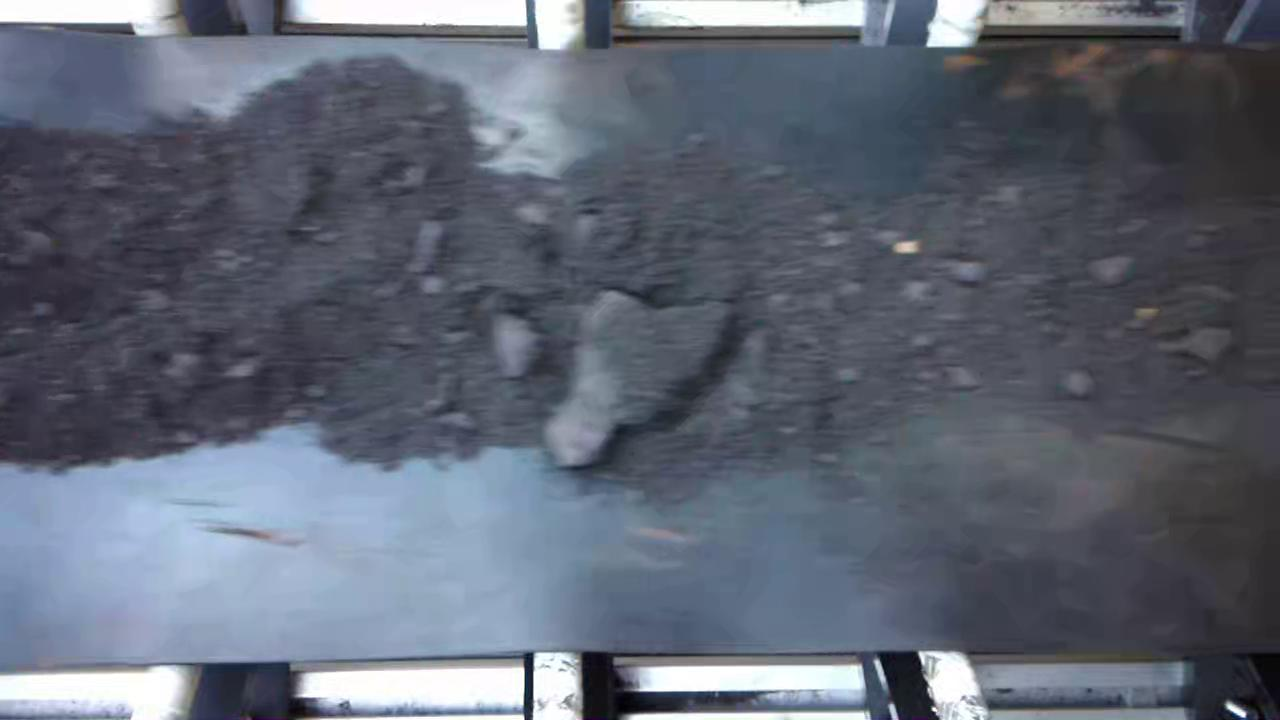conveyor: (1, 52, 1280, 646)
